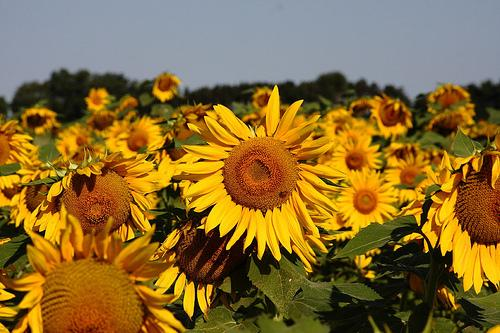sunflower: (176, 85, 338, 261), (20, 220, 186, 333)
